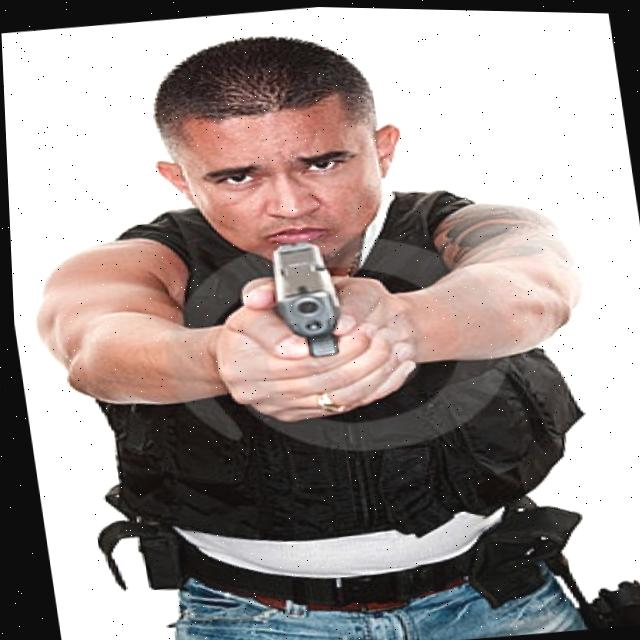pistol: (261, 234, 345, 360)
